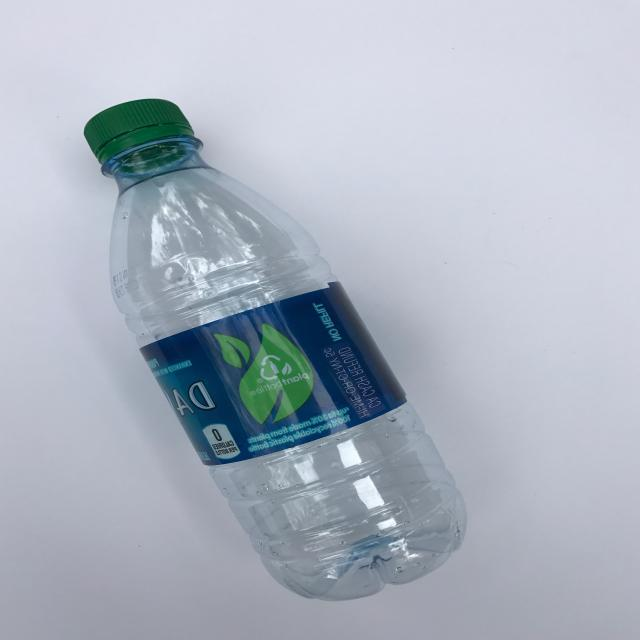plastic: (84, 97, 468, 602)
